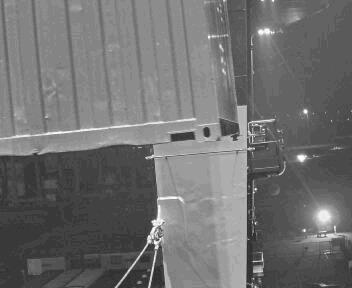twist_lock_1: (222, 128, 246, 147)
